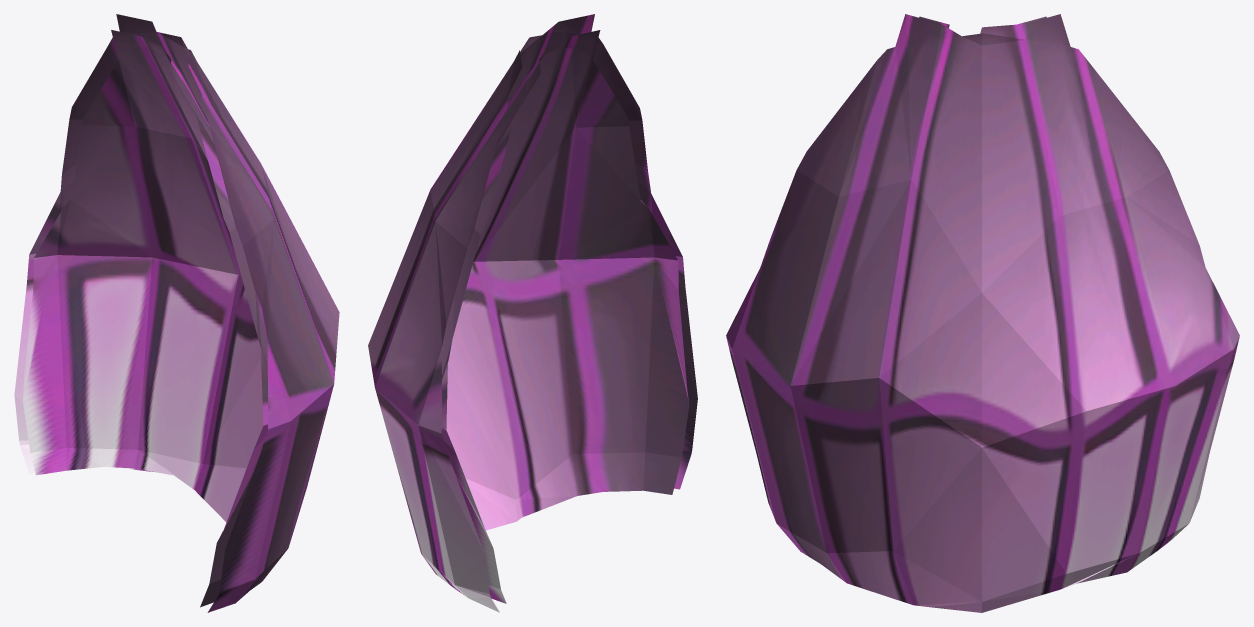
Rendered from BVase2.glb.
3 views of the same model, side by side, from view 1: azimuth 30°, elevation 25°; view 2: azimuth 150°, elevation 25°; view 3: azimuth 270°, elevation 25° (orthographic). The views are drawn at different scales.
Visible parts, largest first — view 1: BVase2; view 2: BVase2; view 3: BVase2.
Boxes of the visible parts, x1,y1,x2,y2 form: BVase2: (14,14,339,612); BVase2: (368,14,697,612); BVase2: (726,14,1239,612).
Size of the model in its own units: 59.88 by 156 by 131.
1 material, 1 textured.
